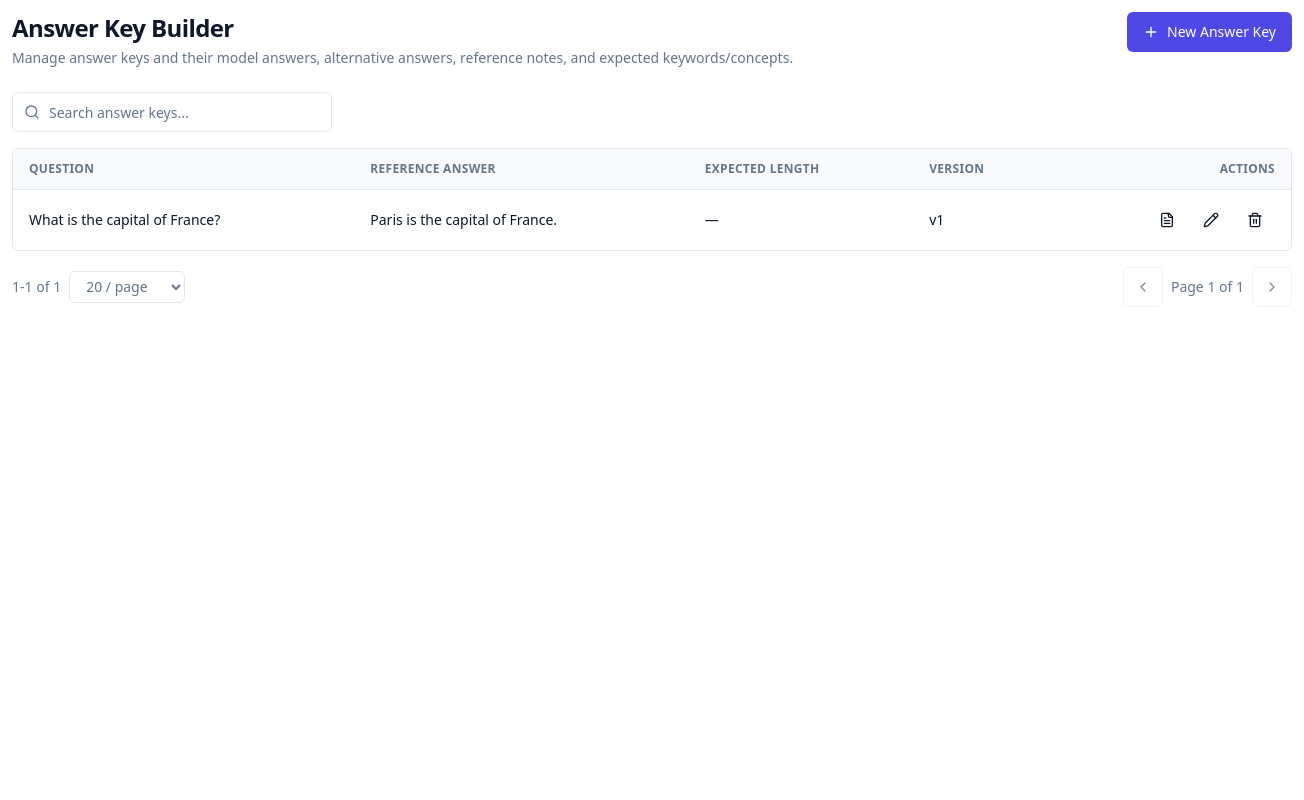
Test: AnswerKeyBuilderPage › returns to the answer key list from the detail view
Check: the text "Paris is the capital of France." is shown, box x1=354 y1=189 x2=689 y2=250
Click the button named "Manage details for What is the capital of France?".
click(1167, 220)  # box x1=1147 y1=200 x2=1187 y2=240
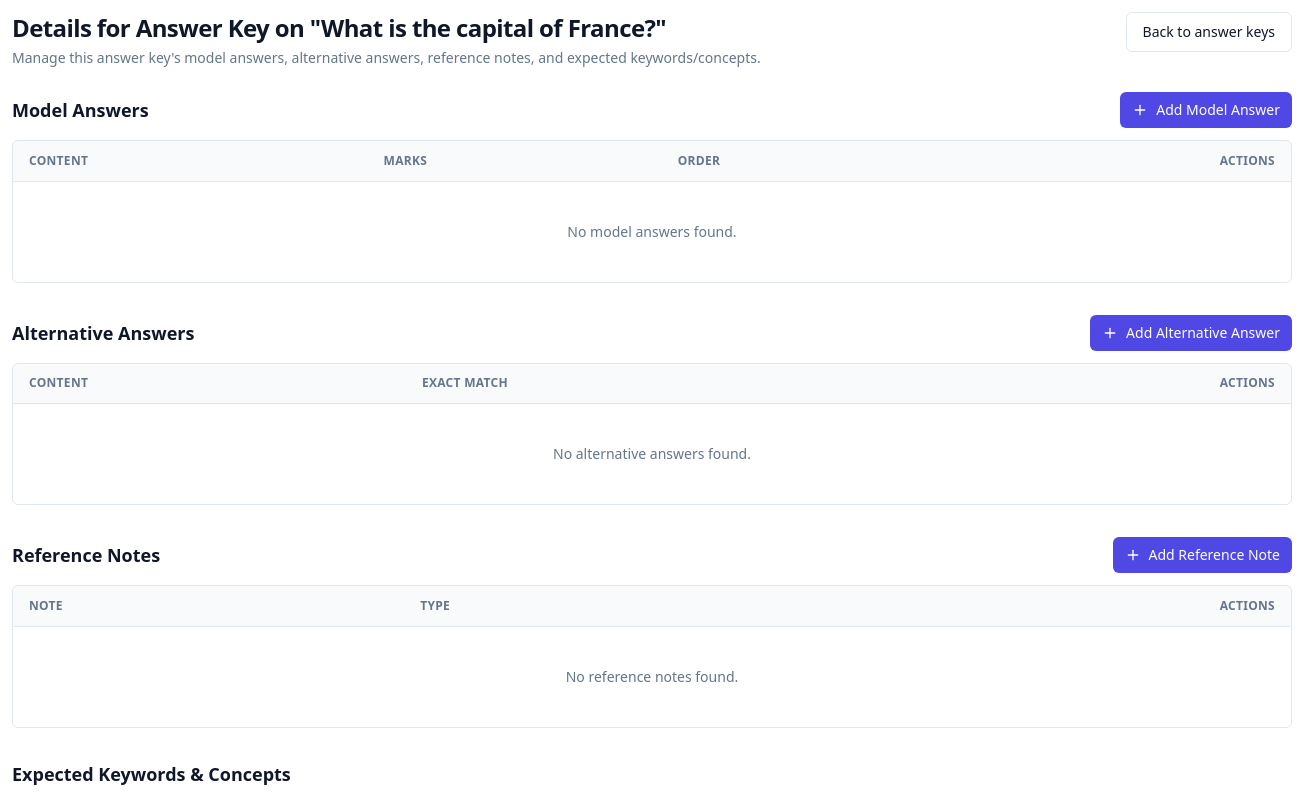
Check: the heading "Details for Answer Key on \"What is the capital of France?\"" is shown, box x1=12 y1=12 x2=761 y2=44
Click the button "Back to answer keys".
click(1209, 32)  # box x1=1126 y1=12 x2=1292 y2=52
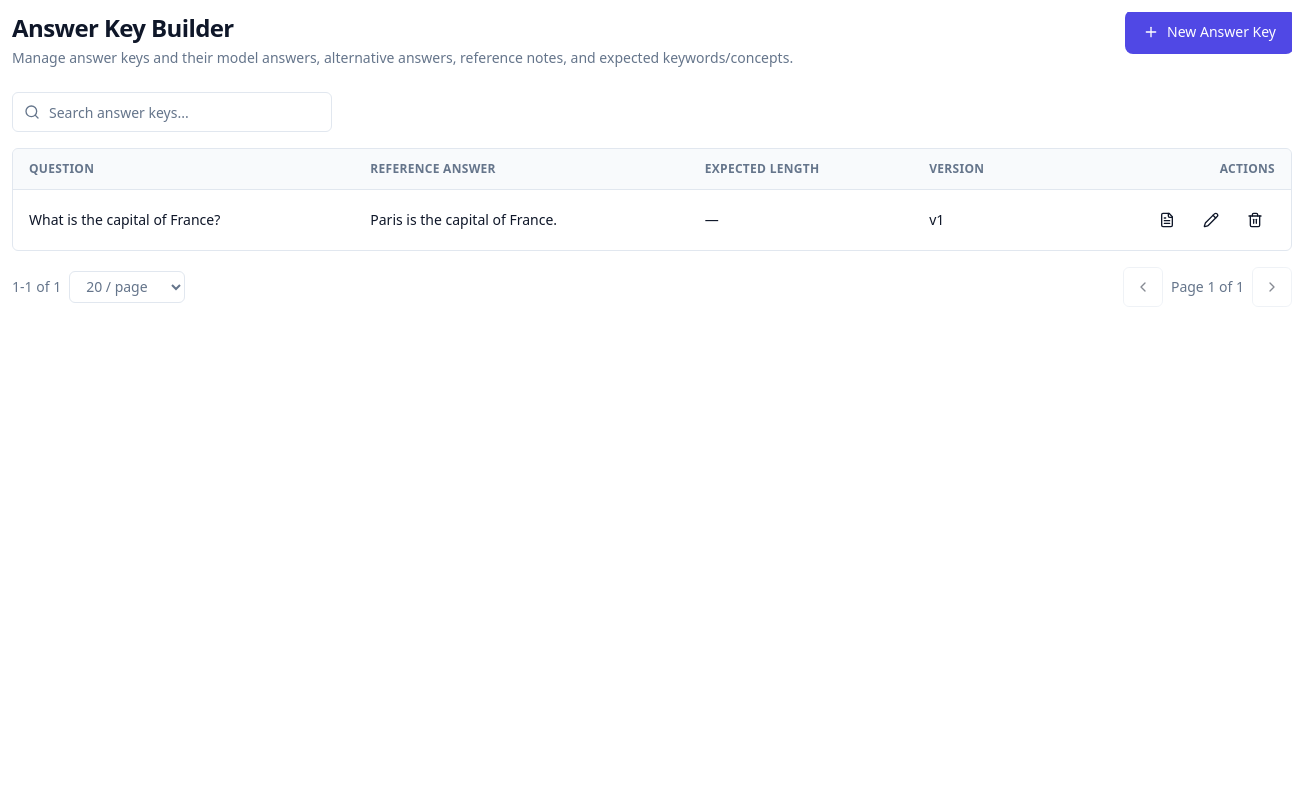
Check: the heading "Answer Key Builder" is shown, box x1=12 y1=11 x2=234 y2=44
